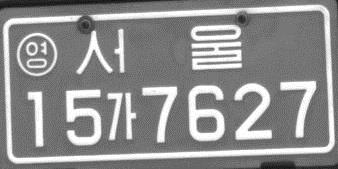1: (22, 88, 51, 151)
2: (232, 82, 274, 144)
5: (62, 87, 102, 147)
6: (185, 83, 225, 142)
7: (276, 77, 319, 142), (137, 84, 178, 146)
가: (104, 91, 139, 144)
서울_D: (71, 21, 244, 78)
영: (15, 32, 58, 77)
